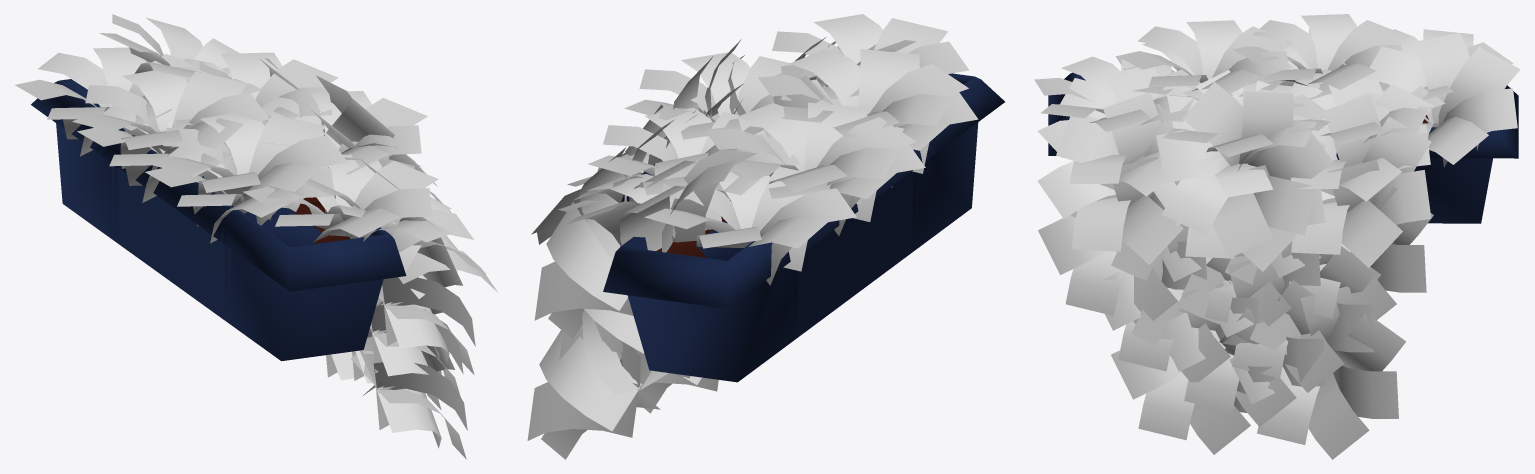
File: Plant_FlowerPotRaiing.fbx
3 views of the same model, side by side, from view 1: azimuth 30°, elevation 25°; view 2: azimuth 150°, elevation 25°; view 3: azimuth 270°, elevation 25° (orthographic). The views are drawn at different scales.
Parts seen in each view (by area): view 1: PlantHangerLong, Foliage.007, Foliage.008, Foliage.003, Foliage.016, Foliage.022, Foliage, Foliage.002, Foliage.001, Foliage.004, Foliage.009, Foliage.006 (+6 smaller); view 2: PlantHangerLong, Foliage.023, Foliage.008, Foliage.007, Foliage, Foliage.009, Foliage.017, Foliage.002, Foliage.001, Foliage.003, Foliage.014, Foliage.005 (+6 smaller); view 3: Foliage.012, Foliage.023, Foliage.013, Foliage.014, Foliage.009, Foliage.021, Foliage.022, Foliage.016, Foliage.007, Foliage.008, Foliage.020, Foliage.017 (+13 smaller).
Part boxes in pixels (x1,y1,x2,y2): PlantHangerLong: [31, 79, 406, 361]; Foliage.007: [149, 113, 347, 220]; Foliage.008: [72, 70, 269, 180]; Foliage.003: [243, 154, 438, 242]; Foliage.016: [375, 237, 475, 374]; Foliage.022: [351, 337, 467, 459]; Foliage: [15, 47, 208, 156]; Foliage.002: [261, 91, 427, 174]; Foliage.001: [175, 52, 338, 125]; Foliage.004: [145, 147, 334, 243]; Foliage.009: [99, 14, 260, 94]; Foliage.006: [304, 167, 473, 272]; PlantHangerLong: [603, 73, 1004, 382]; Foliage.023: [527, 309, 668, 459]; Foliage.008: [705, 102, 916, 221]; Foliage.007: [758, 49, 968, 138]; Foliage: [644, 161, 856, 285]; Foliage.009: [558, 149, 757, 252]; Foliage.017: [534, 167, 633, 339]; Foliage.002: [624, 52, 834, 139]; Foliage.001: [588, 107, 799, 199]; Foliage.003: [772, 14, 969, 99]; Foliage.014: [531, 114, 697, 257]; Foliage.005: [734, 127, 925, 235]; Foliage.012: [1156, 82, 1333, 258]; Foliage.023: [1229, 286, 1406, 459]; Foliage.013: [1037, 92, 1188, 264]; Foliage.014: [1291, 95, 1431, 267]; Foliage.009: [1346, 33, 1520, 167]; Foliage.021: [1162, 260, 1326, 427]; Foliage.022: [1111, 281, 1287, 454]; Foliage.016: [1038, 156, 1206, 323]; Foliage.007: [1117, 20, 1293, 93]; Foliage.008: [1232, 14, 1408, 89]; Foliage.020: [1218, 241, 1380, 392]; Foliage.017: [1272, 159, 1433, 319].
Size of the model in its own units: 0.7526 by 1.12 by 0.8553.
